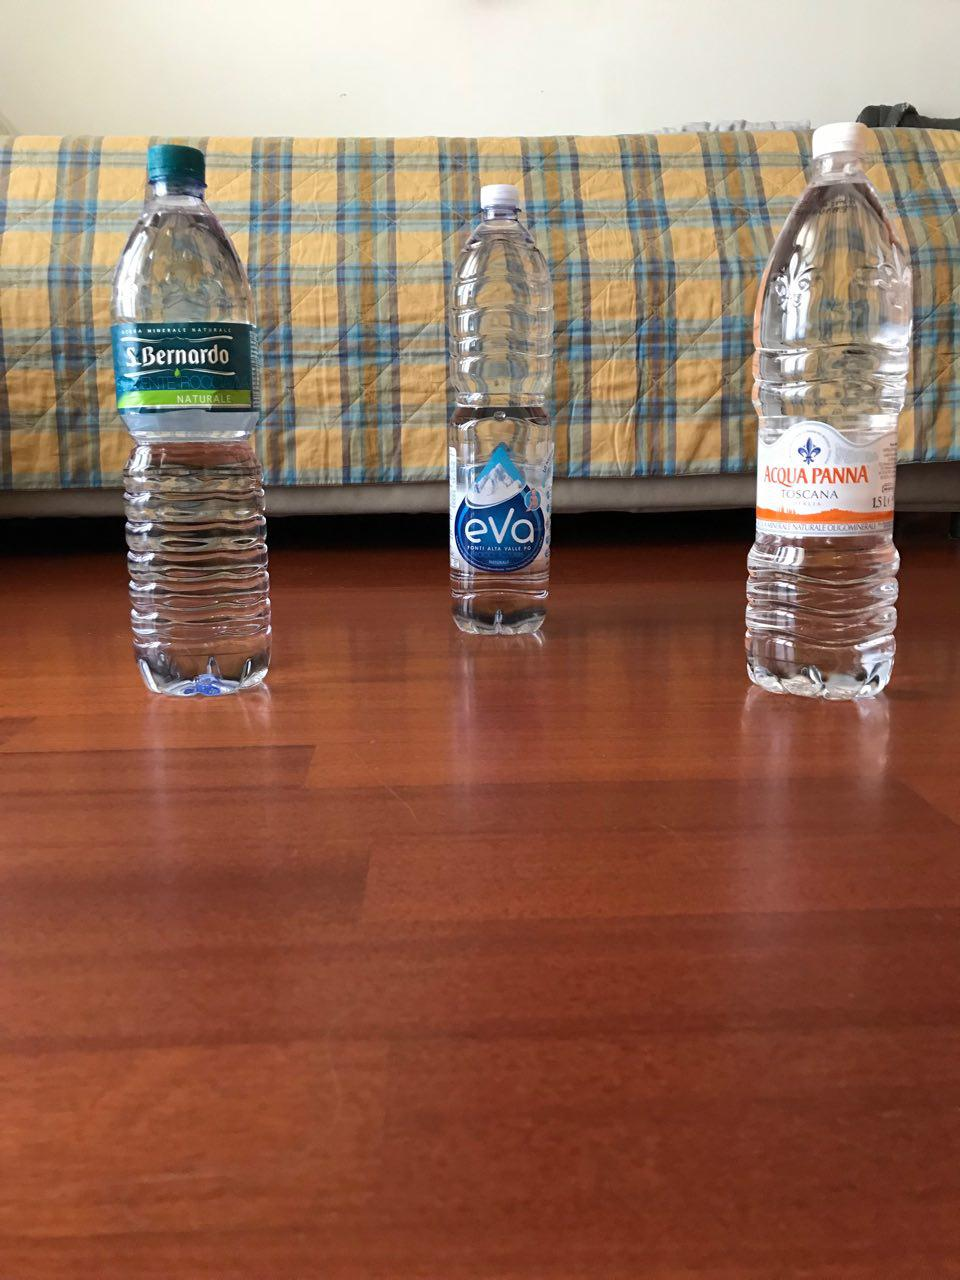san_bernardo: (110, 143, 273, 698)
